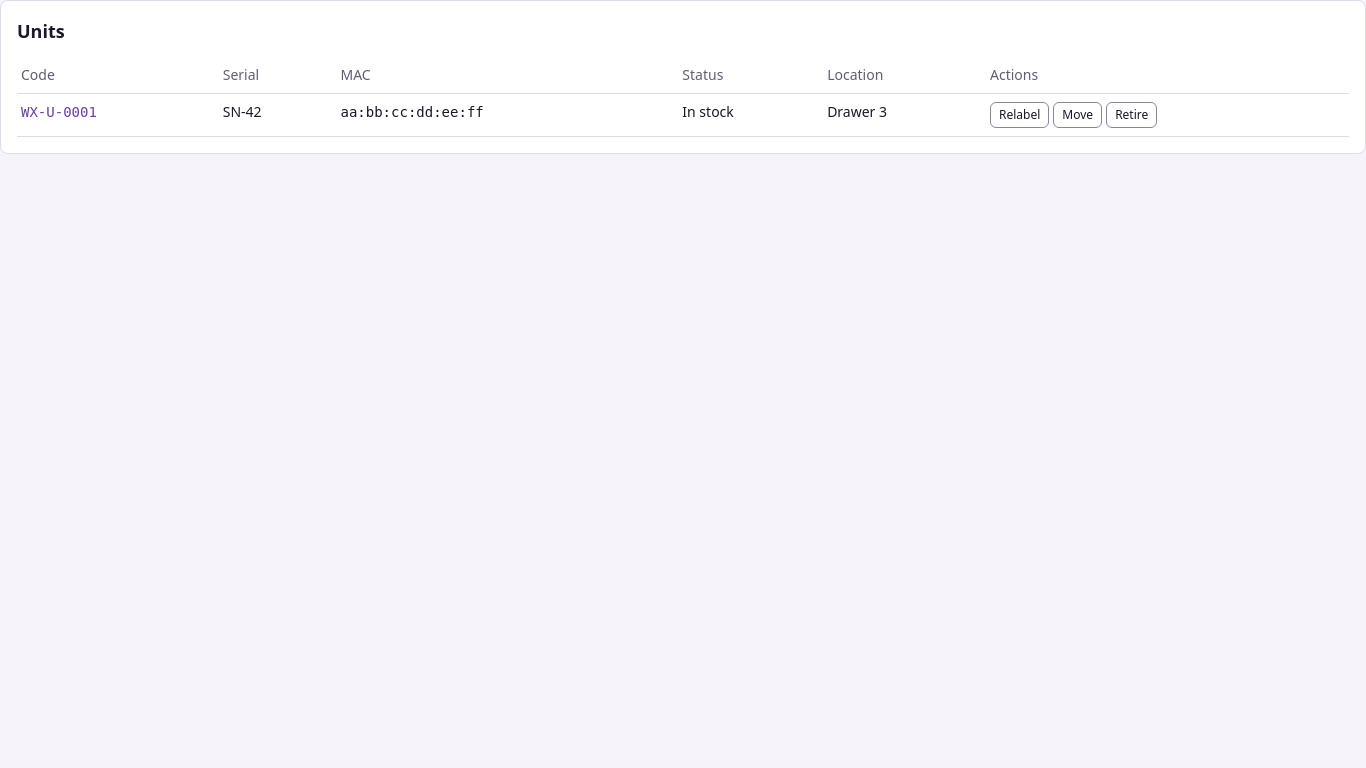
it: UnitsList › shows the canonical MAC only once the input is a full address
Click the button "Relabel" at (1020, 115), box x1=990 y1=102 x2=1049 y2=128
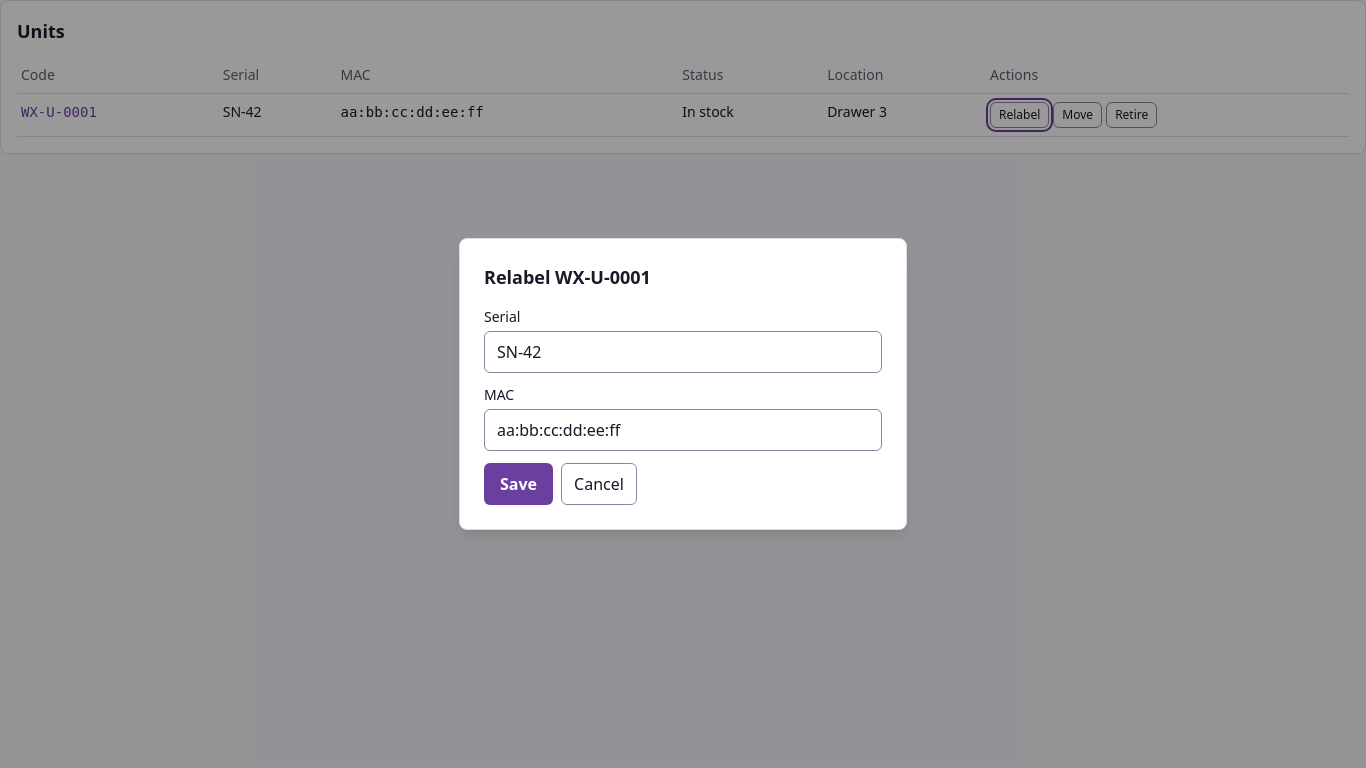
Replace the text in the field labelled "MAC" with "AA-BB-CC-DD-EE" at (683, 430), box x1=484 y1=409 x2=882 y2=451
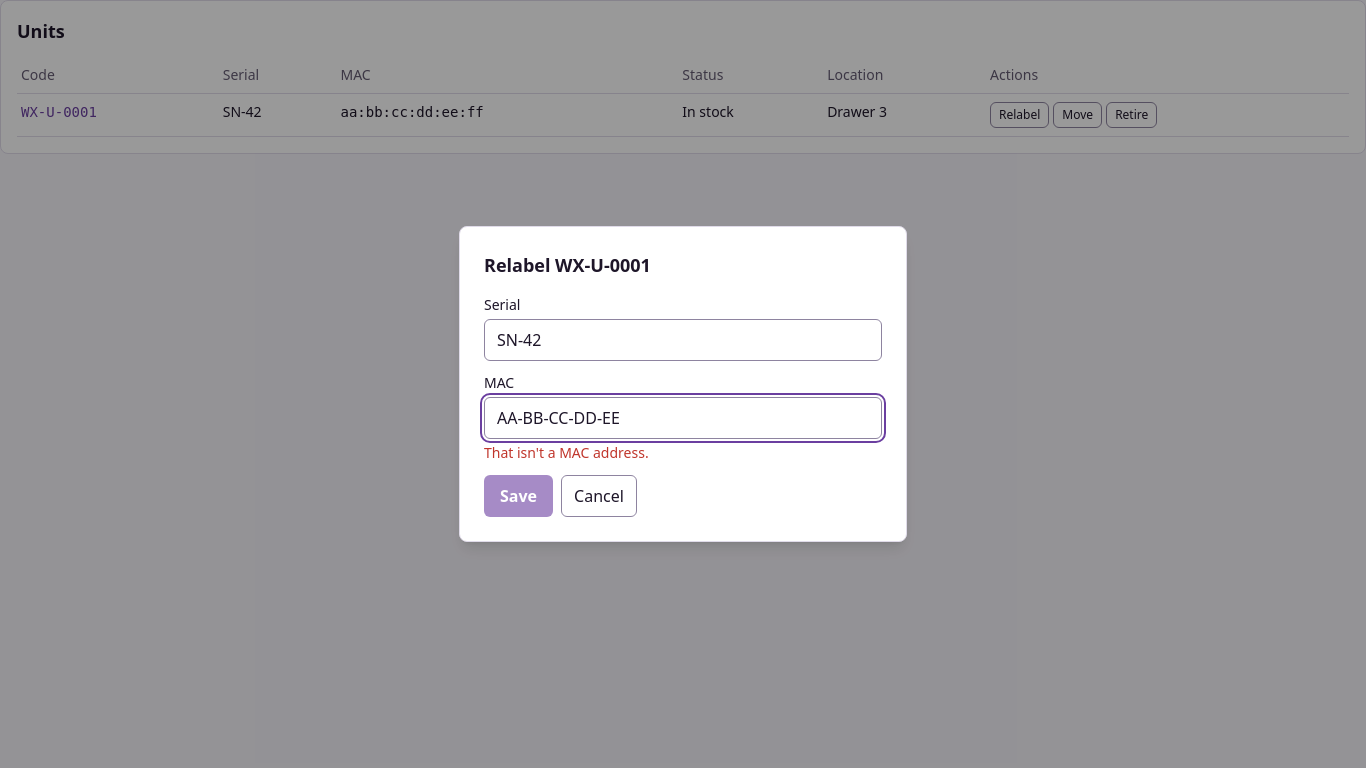
Expected: the text "Will be saved as" is not shown
Now the message shows "isn't a MAC address", box x1=484 y1=443 x2=649 y2=462
Type "-01" into the field labelled "MAC" at (683, 418), box x1=484 y1=397 x2=882 y2=439
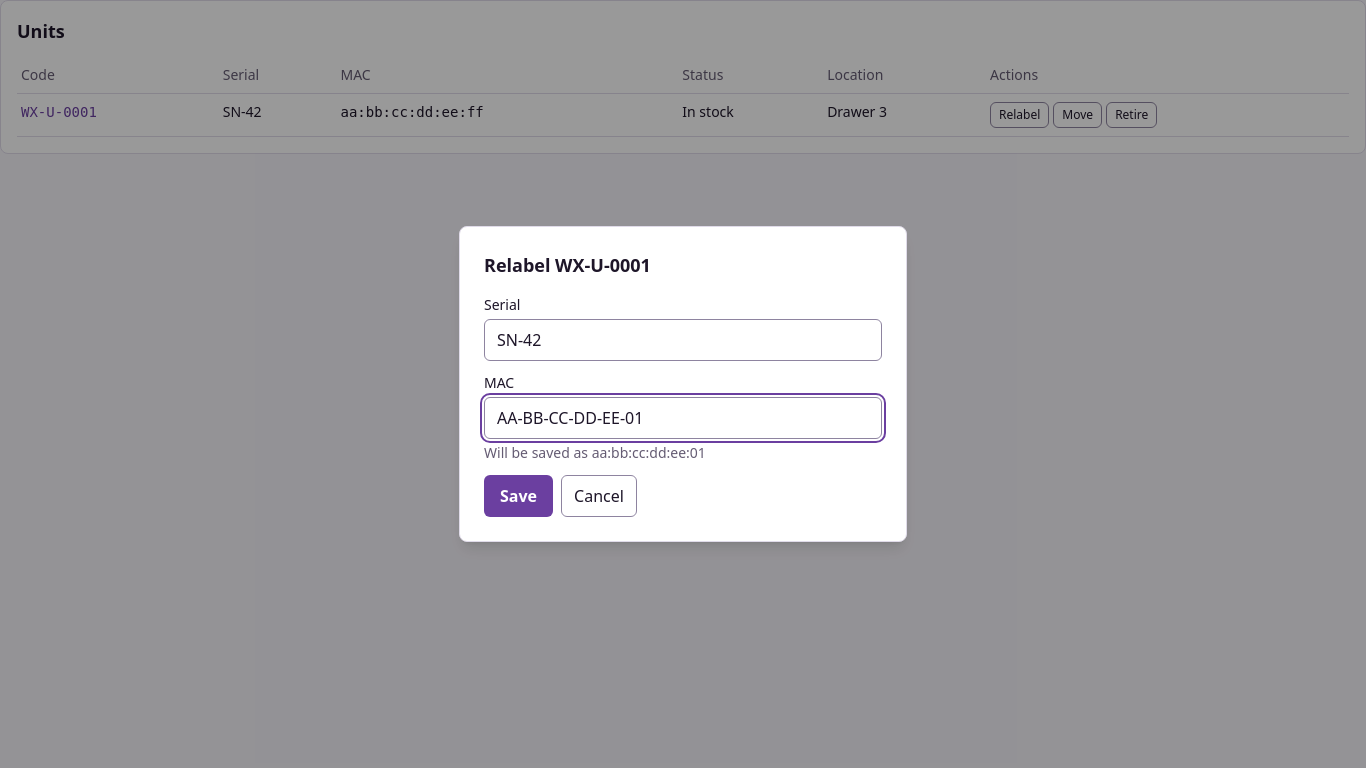
Now the text "Will be saved as aa:bb:cc:dd:ee:01" is shown, box x1=484 y1=443 x2=706 y2=462
Now the field labelled "MAC" holds "AA-BB-CC-DD-EE-01", box x1=484 y1=397 x2=882 y2=439
